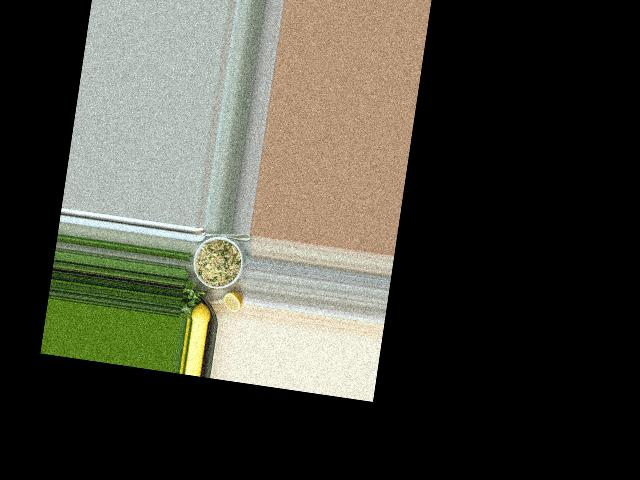lemon: (191, 302, 210, 322)
